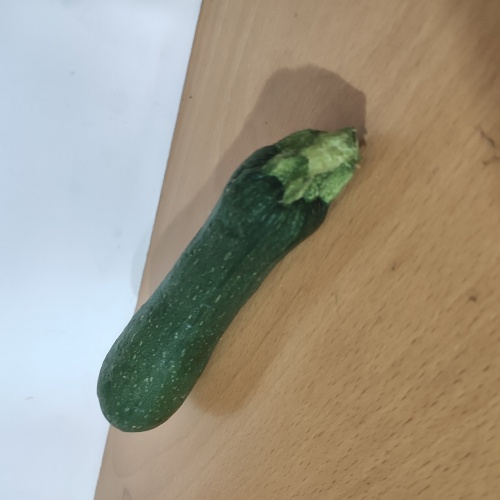zucchine: (97, 121, 363, 438)
